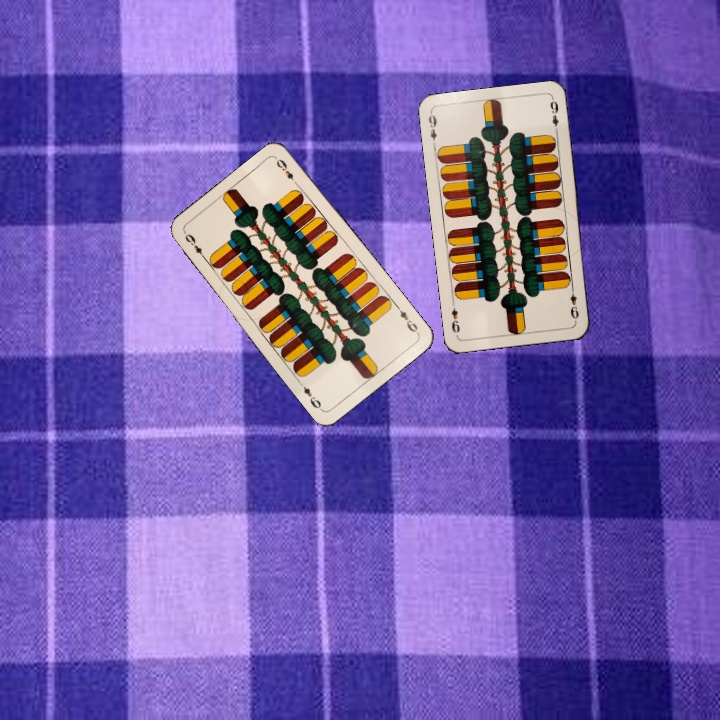E9: (391, 301, 421, 336), (181, 229, 210, 263), (424, 109, 439, 150), (566, 283, 581, 323)
